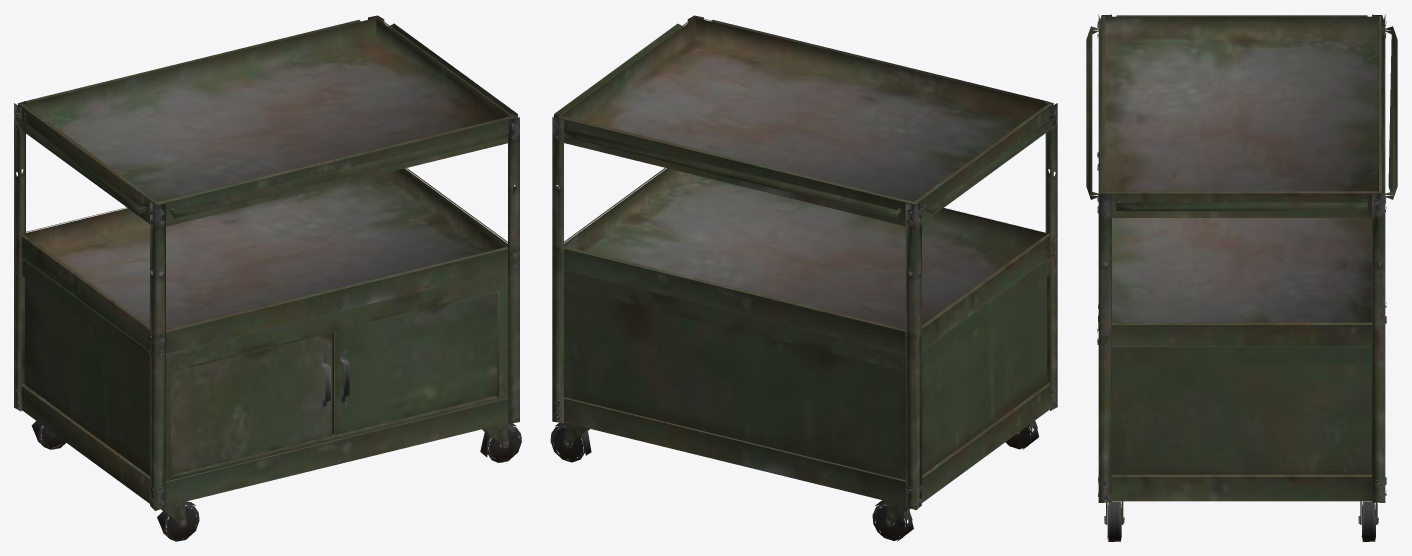
Rendered from storage_cart.glb.
3 views of the same model, side by side, from view 1: azimuth 30°, elevation 25°; view 2: azimuth 150°, elevation 25°; view 3: azimuth 270°, elevation 25° (orthographic).
Visible parts, largest first — view 1: storage_cart; view 2: storage_cart; view 3: storage_cart.
Boxes of the visible parts, x1,y1,x2,y2 form: storage_cart: (14, 15, 521, 541); storage_cart: (550, 15, 1057, 541); storage_cart: (1086, 14, 1397, 541).
Size of the model in its own units: 1.61 by 1.38 by 1.11.
Materials: 1 (1 with a texture image).
